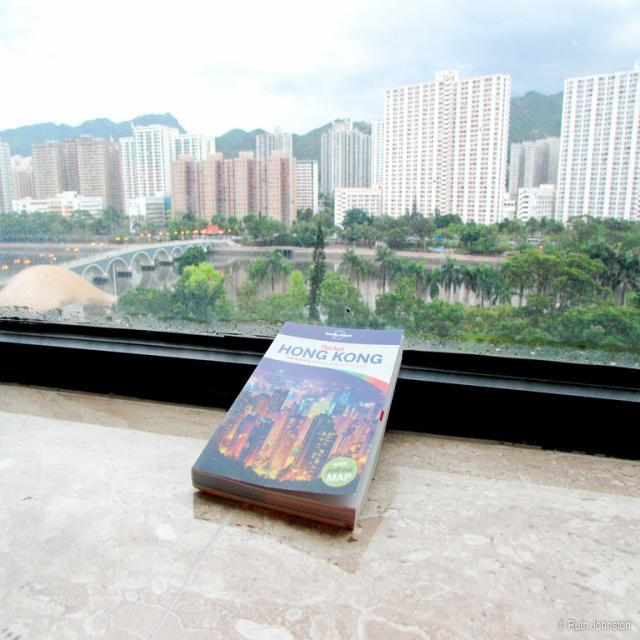book: (180, 319, 413, 538)
